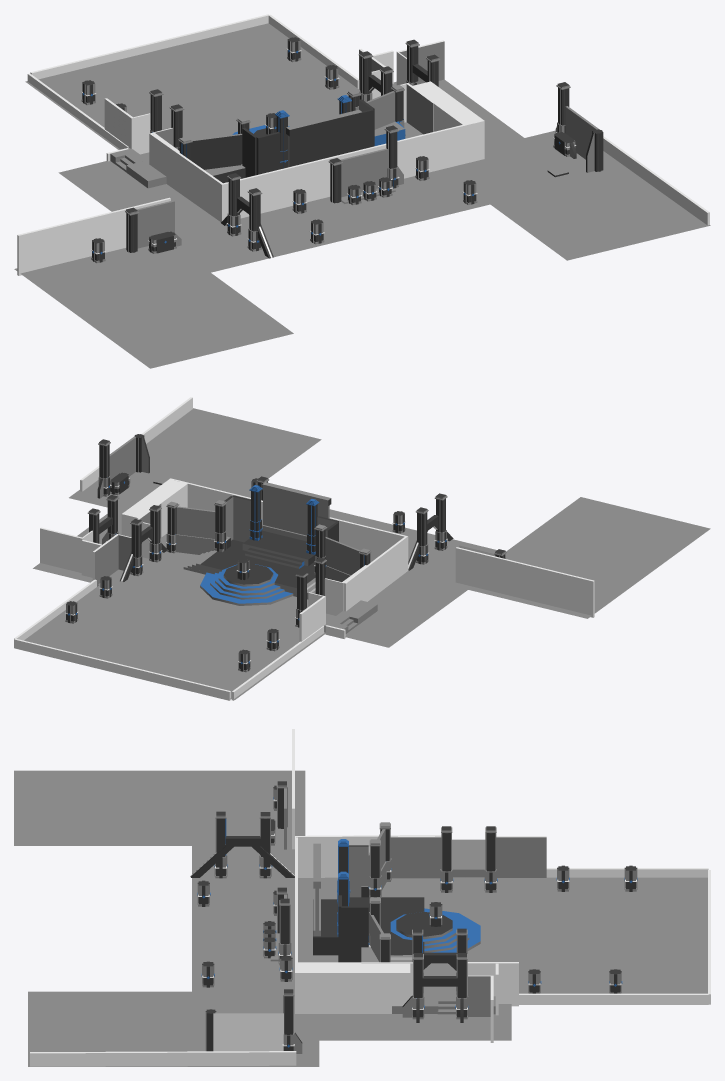
Rendered from stage design.obj.
3 renders of one model, top to bottom at view 1: azimuth 30°, elevation 25°; view 2: azimuth 150°, elevation 25°; view 3: azimuth 270°, elevation 25°, orthographic. The views are drawn at different scales.
Parts seen in each view (by area): view 1: Plane007, Plane009, Plane003, Plane002, Box415, Box022, Plane008, Box452, Box125, Box038, Box059, Box033 (+17 smaller); view 2: Plane007, Plane009, Plane003, Box022, Plane008, Box415, Box059, Plane002, Box452, Box143, Box125, Box038 (+19 smaller); view 3: Plane007, Plane009, Plane003, Plane002, Box038, Plane006, Box033, Box439, Box058, Box340, Box355, Box452 (+10 smaller).
Boxes of the visible parts, bbox=[...] form: Plane007: bbox=[25, 23, 419, 223]; Plane009: bbox=[14, 246, 293, 368]; Plane003: bbox=[443, 130, 710, 260]; Plane002: bbox=[172, 169, 489, 273]; Box415: bbox=[221, 120, 480, 221]; Box022: bbox=[17, 197, 170, 275]; Plane008: bbox=[58, 161, 220, 232]; Box452: bbox=[149, 133, 223, 221]; Box125: bbox=[288, 119, 361, 167]; Box038: bbox=[413, 81, 484, 163]; Box059: bbox=[30, 14, 268, 79]; Box033: bbox=[603, 136, 709, 225]; Plane007: bbox=[24, 538, 335, 699]; Plane009: bbox=[457, 497, 710, 618]; Plane003: bbox=[69, 408, 321, 511]; Box022: bbox=[455, 547, 594, 617]; Plane008: bbox=[345, 570, 467, 647]; Box415: bbox=[172, 479, 408, 570]; Box059: bbox=[14, 639, 230, 700]; Plane002: bbox=[242, 490, 509, 584]; Box452: bbox=[344, 536, 407, 611]; Box143: bbox=[200, 539, 315, 596]; Box125: bbox=[263, 490, 329, 535]; Box038: bbox=[121, 478, 187, 537]; Plane007: bbox=[298, 877, 707, 995]; Plane009: bbox=[14, 770, 305, 845]; Plane003: bbox=[28, 991, 319, 1066]; Plane002: bbox=[192, 843, 298, 992]; Box038: bbox=[295, 962, 410, 1013]; Plane006: bbox=[309, 1004, 511, 1040]; Box033: bbox=[30, 1051, 296, 1066]; Box439: bbox=[213, 1012, 283, 1051]; Box058: bbox=[519, 993, 708, 1004]; Box340: bbox=[390, 836, 441, 878]; Box355: bbox=[496, 836, 546, 877]; Box452: bbox=[295, 835, 441, 877].
Size of the model in its own units: 301 by 38.75 by 299.
